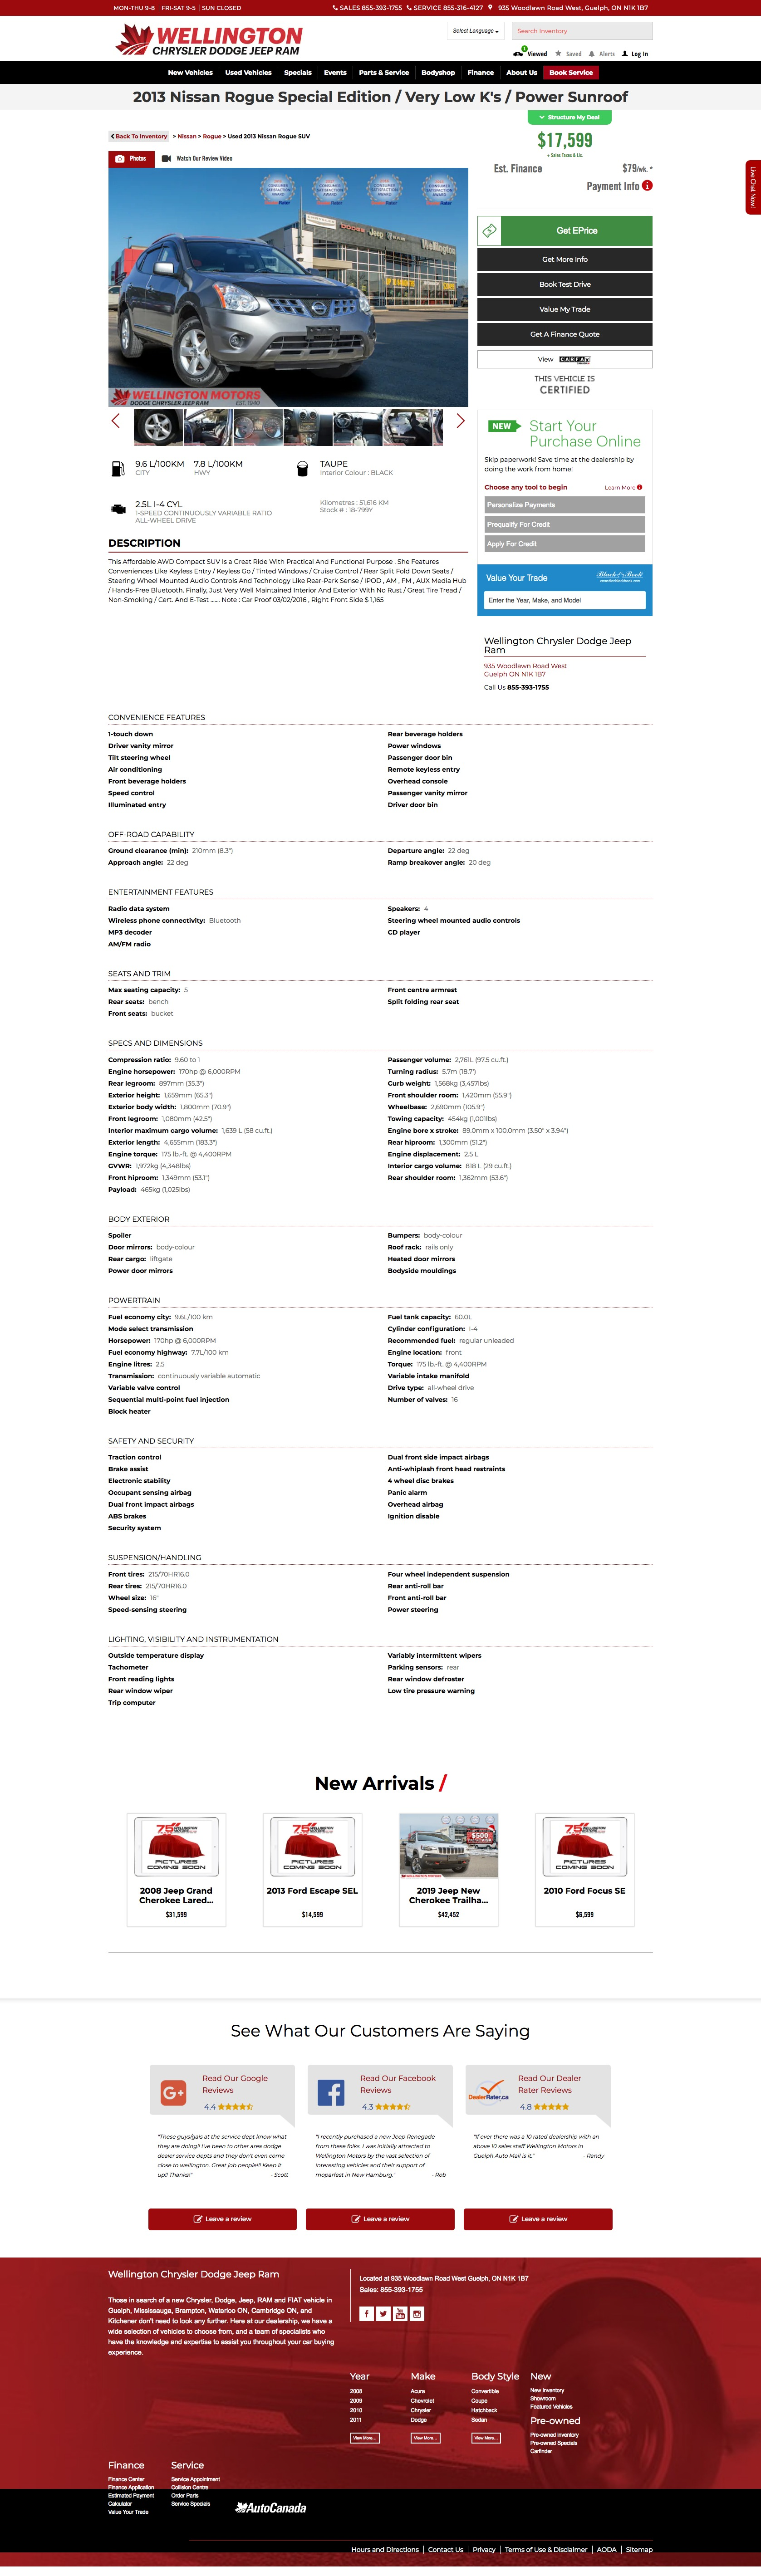car: (455, 412, 467, 429)
